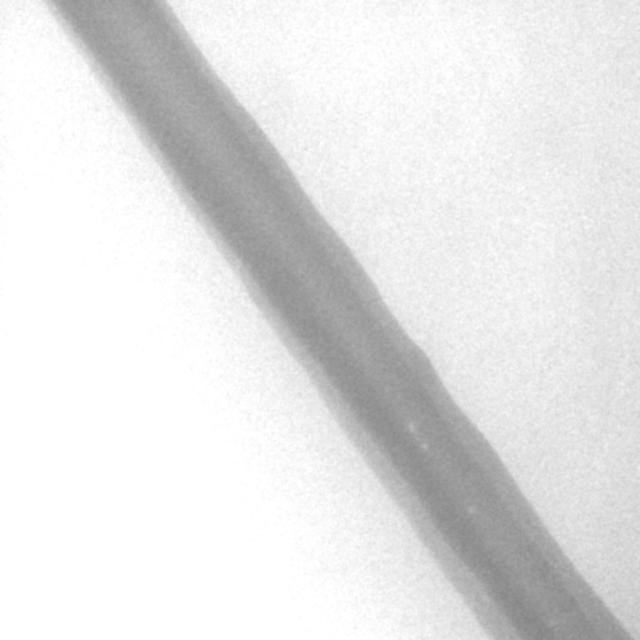air hole: (465, 502, 477, 518), (419, 439, 430, 455), (405, 420, 415, 435)
